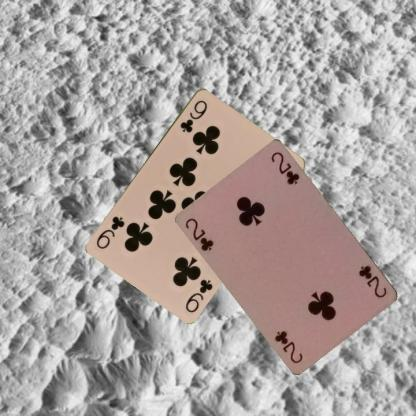2c: (182, 215, 218, 252), (356, 262, 389, 300)
9c: (183, 276, 214, 314), (178, 97, 209, 134)
